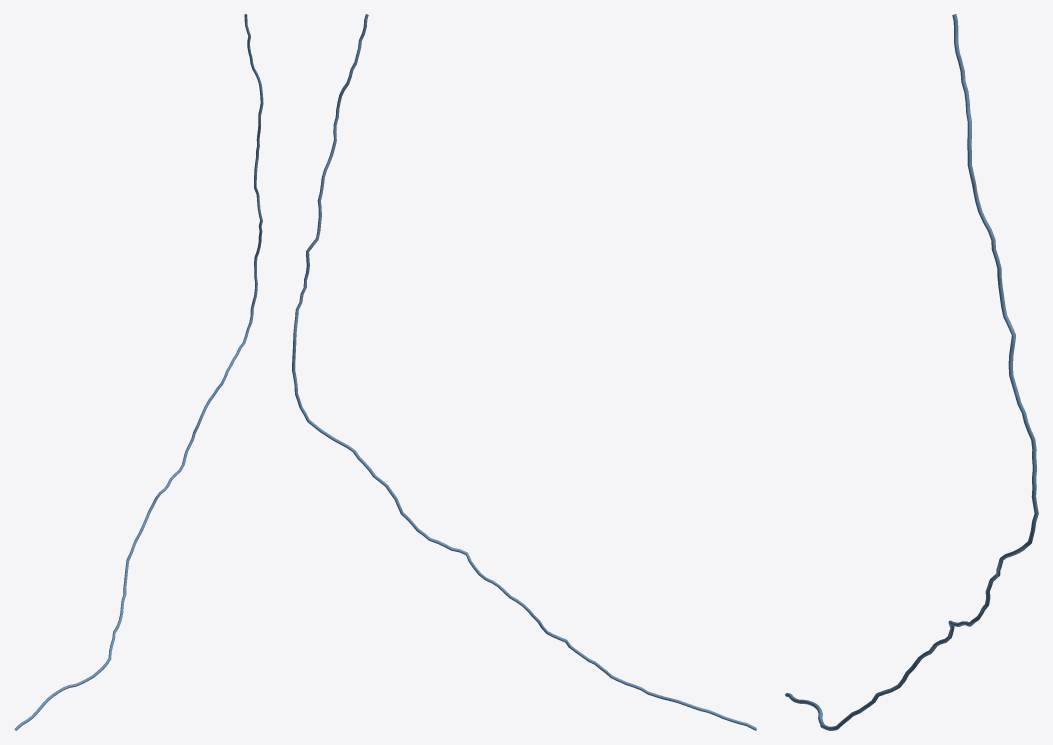
Rendered from sweep130.fbx.
3 views of the same model, side by side, from view 1: azimuth 30°, elevation 25°; view 2: azimuth 150°, elevation 25°; view 3: azimuth 270°, elevation 25° (orthographic). The views are drawn at different scales.
Parts seen in each view (by area): view 1: sweep130; view 2: sweep130; view 3: sweep130.
Boxes of the visible parts, x1,y1,x2,y2 form: sweep130: [14, 14, 263, 730]; sweep130: [292, 14, 756, 730]; sweep130: [785, 14, 1038, 730].
Size of the model in its own units: 2.56 by 4.52 by 1.17.
